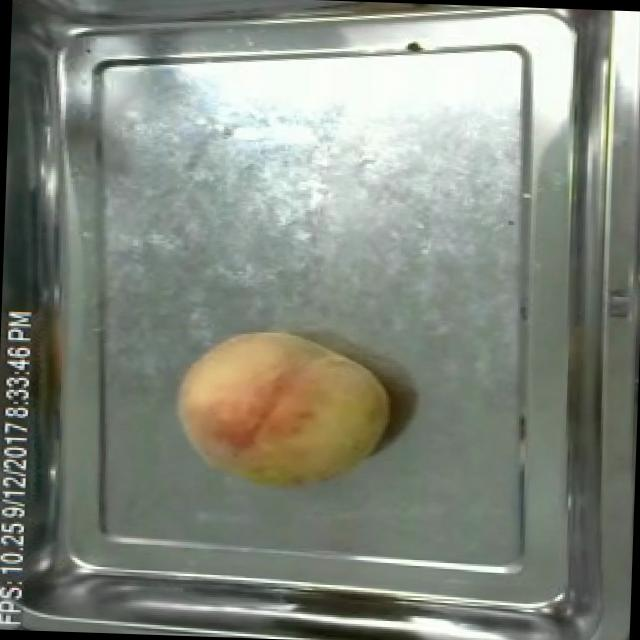Fruit: (163, 316, 399, 498)
